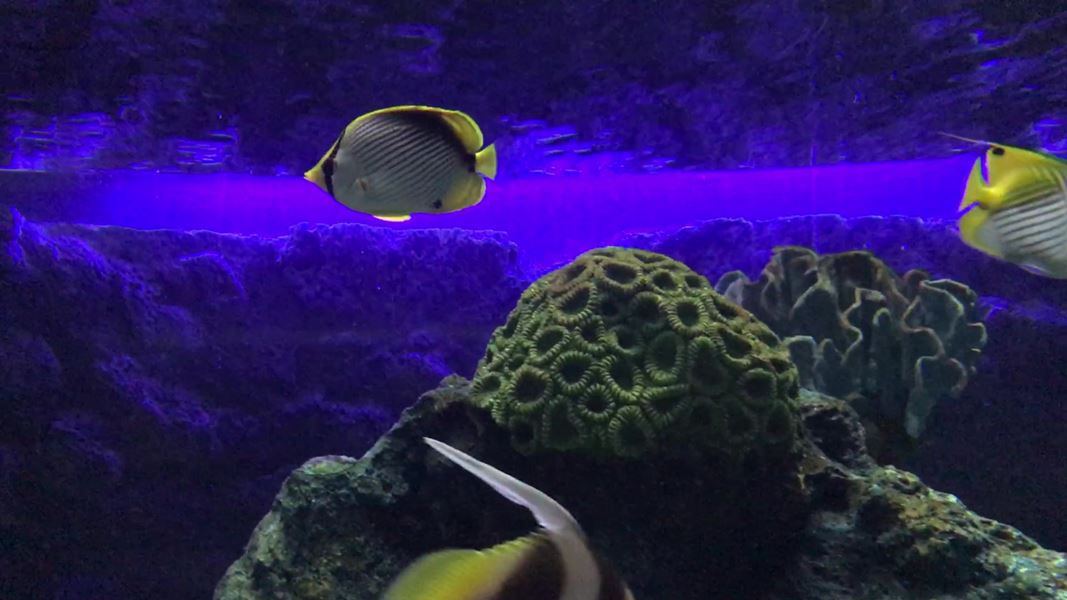Black-backed butterflyfish: (295, 94, 530, 233)
